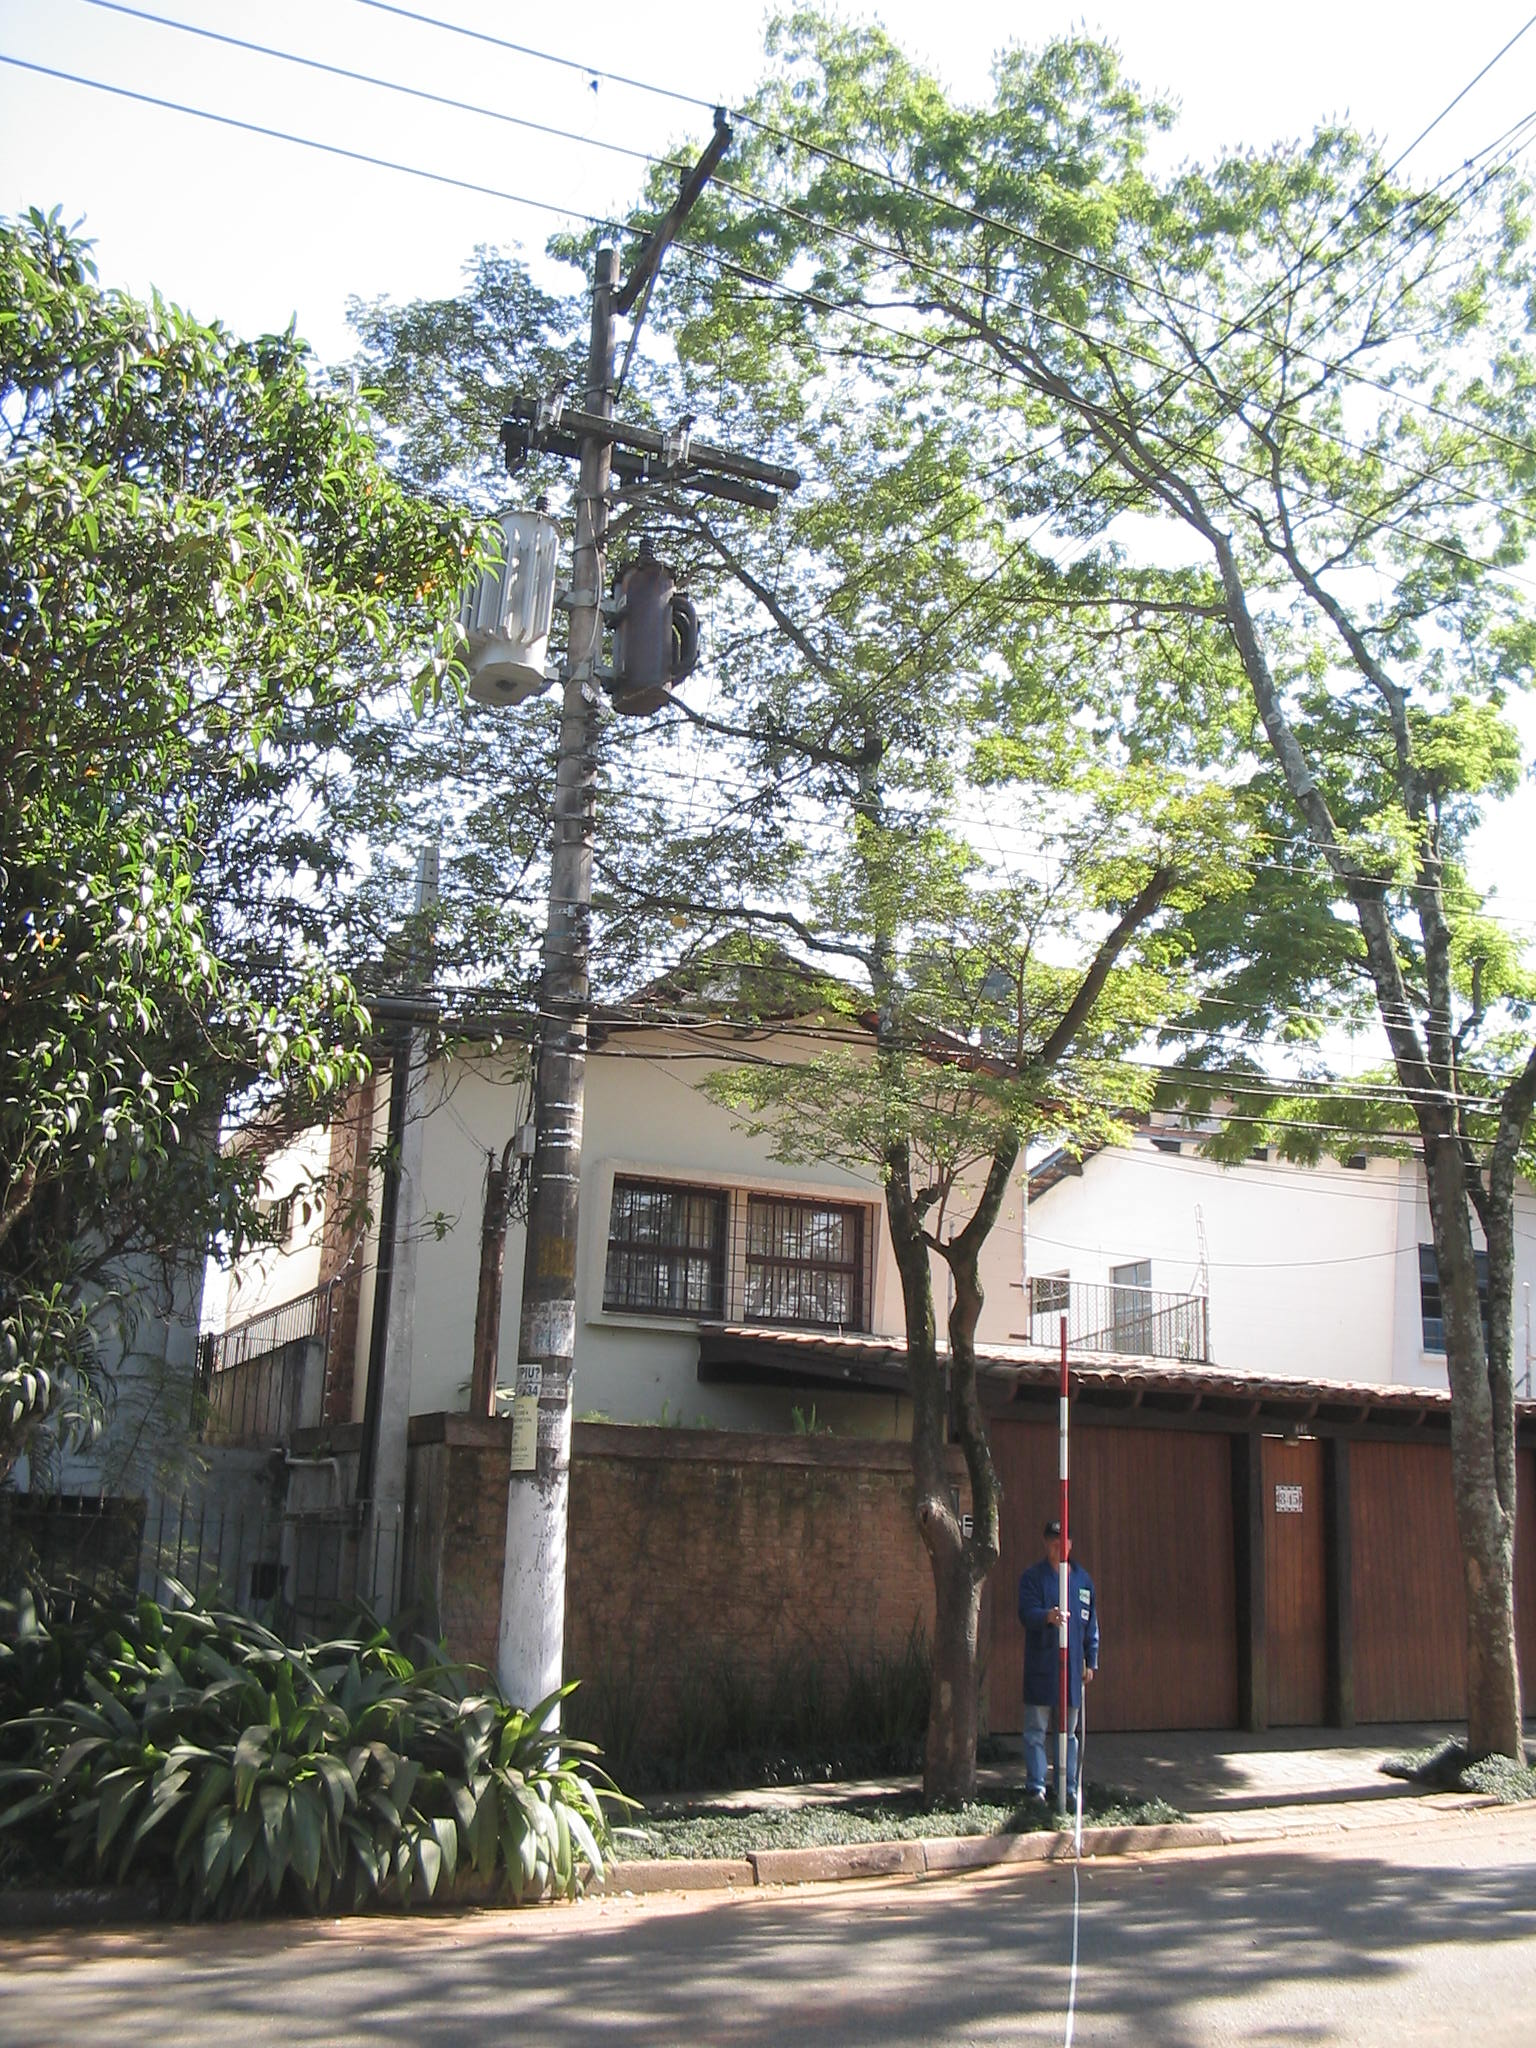stem: (878, 1534, 1015, 1803)
stick: (1021, 1313, 1100, 1816)
